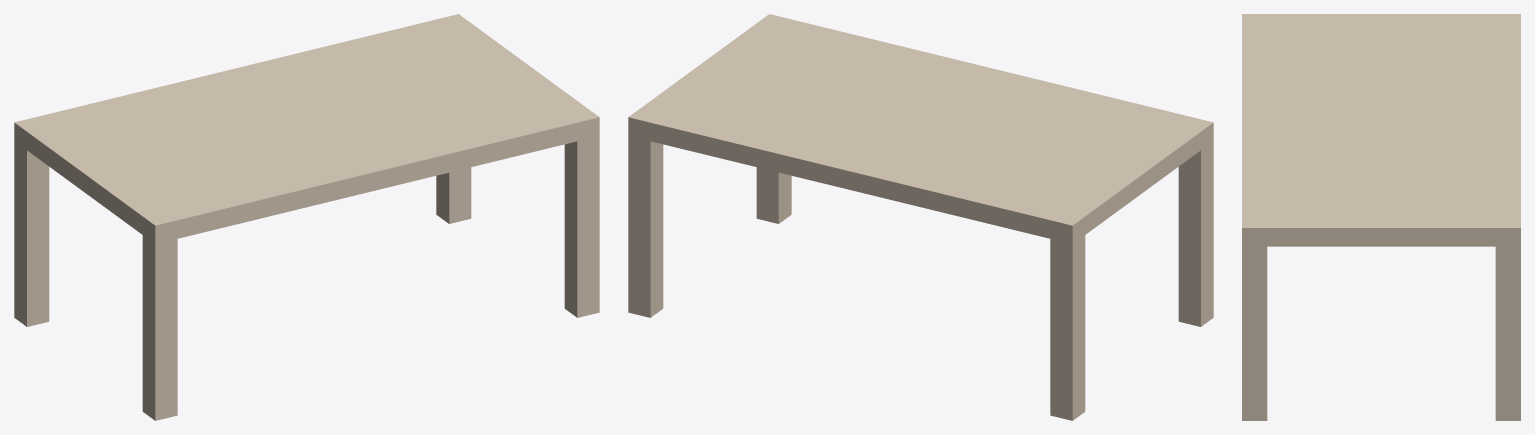
File: coffee_table.glb
3 views of the same model, side by side, from view 1: azimuth 30°, elevation 25°; view 2: azimuth 150°, elevation 25°; view 3: azimuth 270°, elevation 25° (orthographic).
Bounding box in the file's own units: 1 × 0.42 × 0.55.
